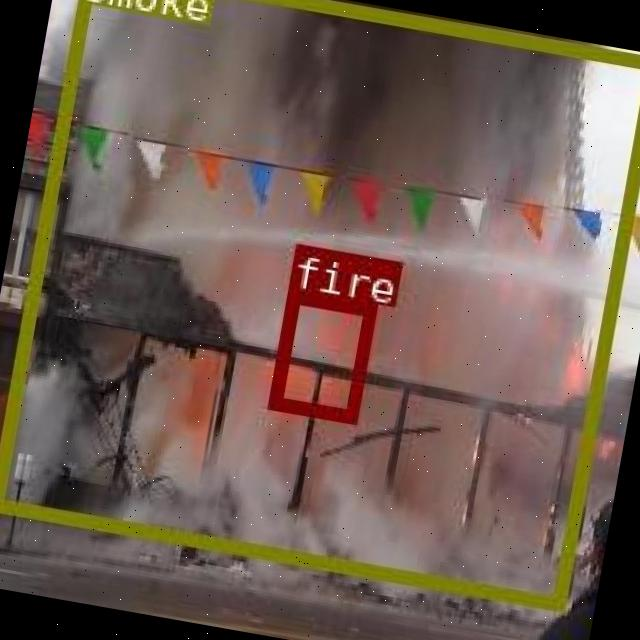fire: (265, 286, 374, 419)
smoke: (0, 0, 640, 609)
